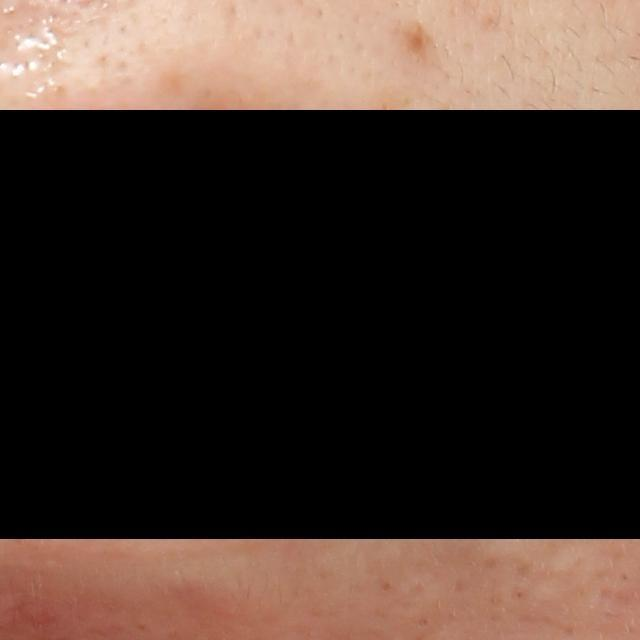nevus: (389, 17, 444, 63)
